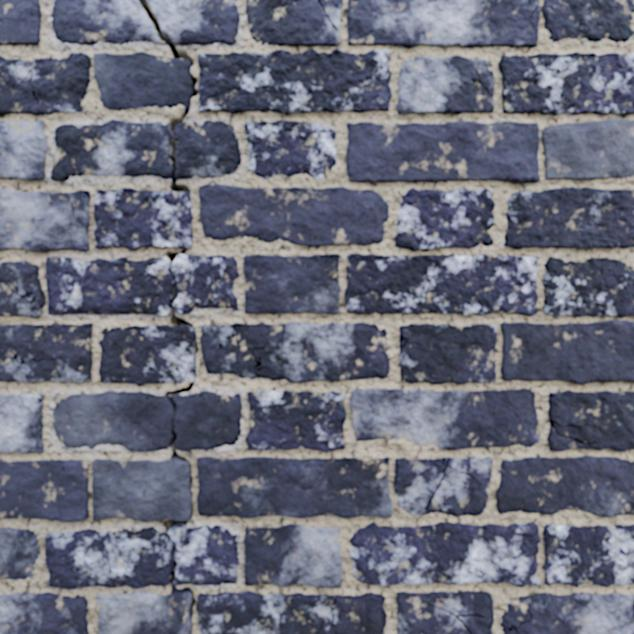broken_brick: (46, 254, 238, 315), (53, 391, 241, 451), (45, 526, 168, 589), (51, 120, 172, 181), (51, 0, 166, 44), (168, 525, 238, 585), (146, 0, 239, 45), (174, 120, 241, 179)
crack: (93, 0, 391, 280), (92, 427, 386, 633), (99, 283, 198, 411), (349, 522, 540, 587), (344, 253, 538, 316), (346, 121, 539, 183), (197, 457, 393, 518), (199, 184, 388, 246), (349, 388, 538, 450), (200, 322, 390, 382), (347, 0, 540, 48), (500, 320, 633, 384), (498, 52, 633, 115), (496, 455, 633, 517), (503, 187, 633, 249), (245, 390, 346, 452), (395, 188, 494, 251), (244, 524, 342, 587), (399, 323, 496, 384), (243, 254, 340, 314), (394, 457, 492, 516), (543, 523, 633, 587), (0, 52, 91, 115), (397, 55, 494, 114), (0, 189, 90, 252), (541, 119, 633, 180), (0, 459, 89, 522), (542, 257, 633, 317), (0, 323, 92, 382), (244, 120, 336, 179), (501, 592, 633, 633), (547, 390, 633, 451), (246, 0, 342, 46), (396, 591, 493, 633), (542, 0, 633, 42), (0, 592, 88, 633), (0, 120, 47, 180), (0, 393, 43, 453), (0, 260, 45, 317), (0, 527, 40, 579), (0, 0, 41, 45)
